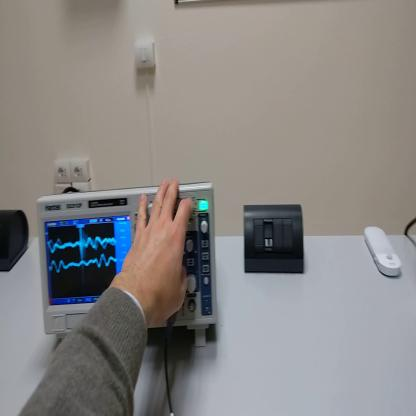hand: (120, 178, 194, 330)
oscilloscope: (33, 183, 216, 349)
socket: (2, 202, 32, 275)
